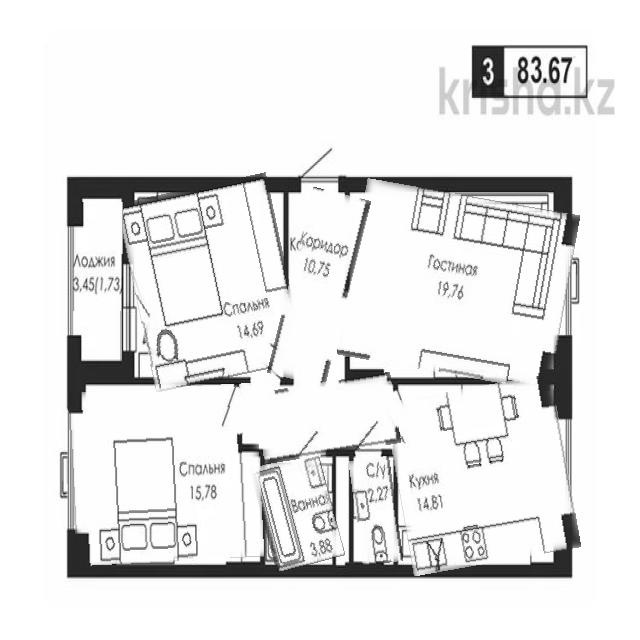balcony: (73, 202, 123, 362)
bathroom: (256, 454, 339, 570), (351, 457, 400, 565)
hallway: (278, 189, 360, 385), (257, 377, 399, 459)
kitchen: (391, 380, 575, 570)
living_room: (344, 186, 574, 382), (125, 179, 296, 386), (70, 386, 262, 564)
